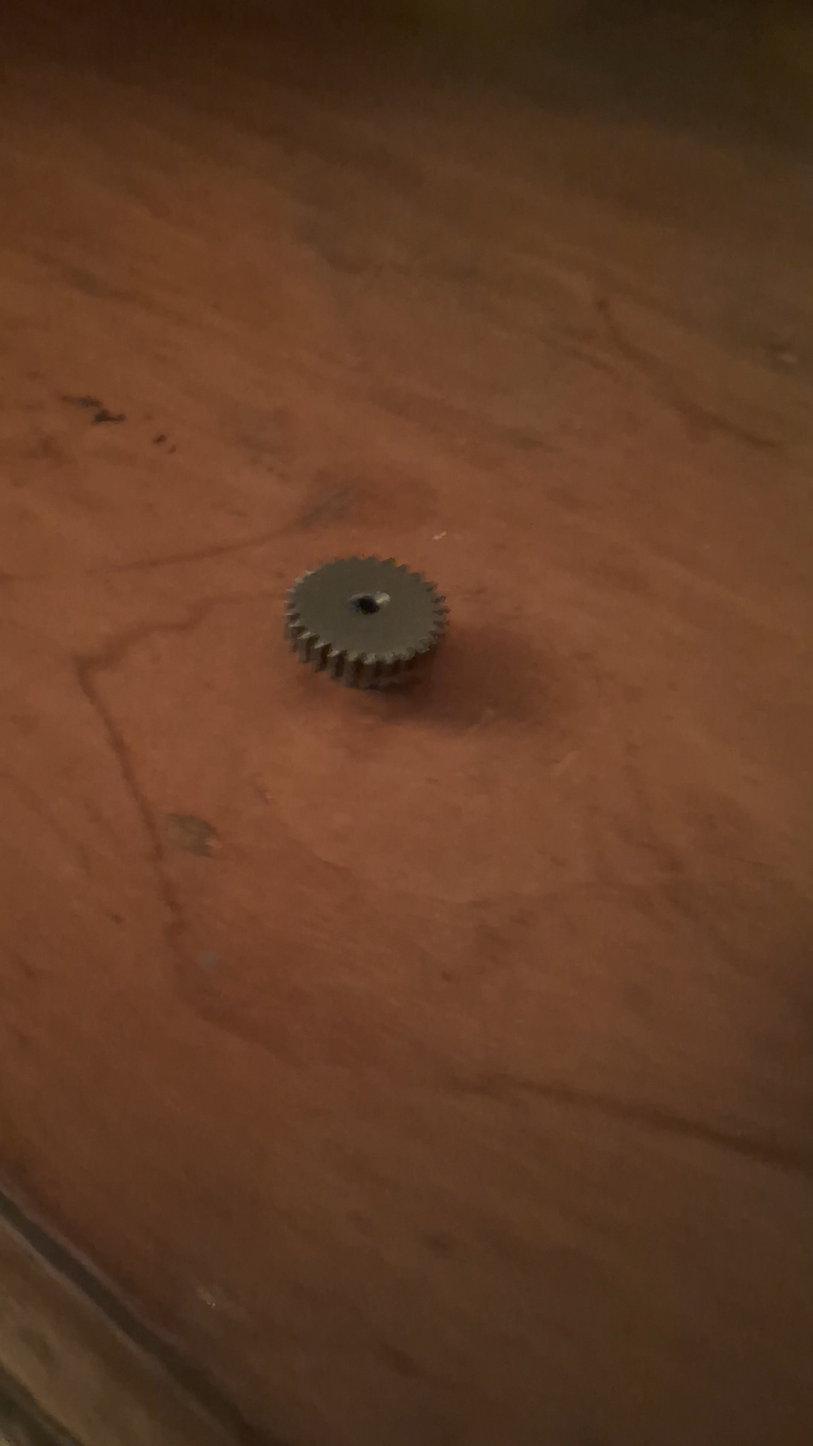spur gear: (285, 557, 447, 688)
